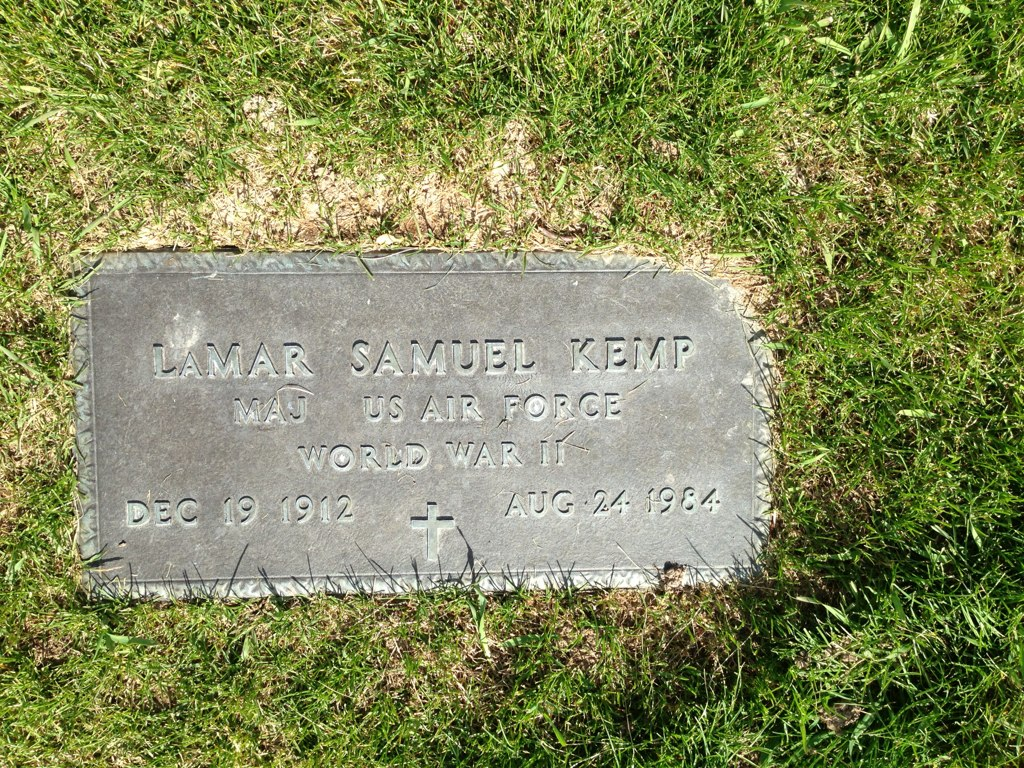flat: (68, 231, 781, 603)
